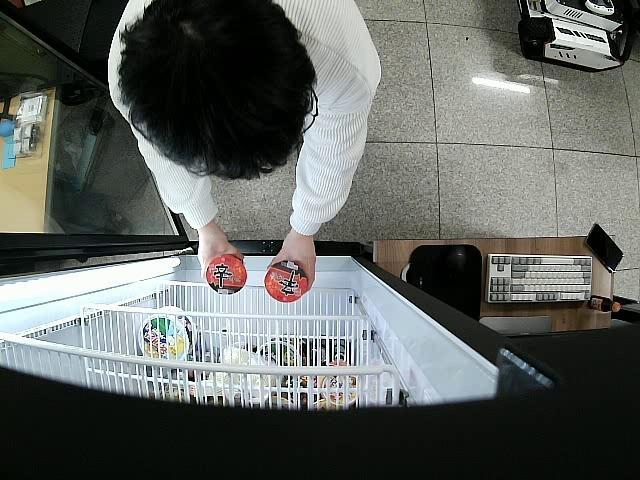02_shinRamen_S: (265, 259, 308, 302), (205, 256, 246, 296)
